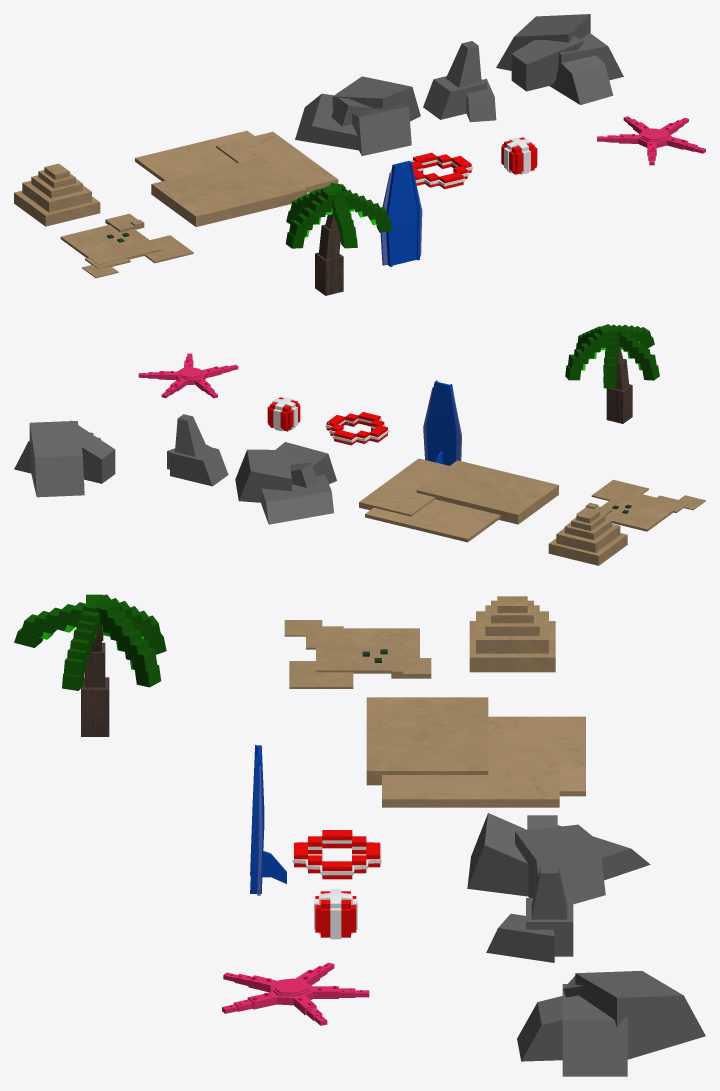
File: Beach_scene.fbx
3 views of the same model, one above another, from view 1: azimuth 30°, elevation 25°; view 2: azimuth 150°, elevation 25°; view 3: azimuth 270°, elevation 25° (orthographic). The views are drawn at different scales.
Parts seen in each view (by area): view 1: pCube72, pCube48, pCube50, pCube53, pCube49, pCube68, pCube52, pCube84, pCube67, pPlane9, pCube83, pCube1 (+3 smaller); view 2: pCube72, pCube50, pCube48, pCube53, pCube68, pCube49, pCube52, pCube67, pPlane9, pCube84, pCube87, pCube83 (+3 smaller); view 3: pCube72, pCube48, pCube50, pCube53, pCube68, pCube49, pCube67, pPlane9, pCube87, pCube84, pCube52, pCube1 (+3 smaller).
Part boxes in pixels (bbox=[...]): pCube72: bbox=[135, 130, 338, 226]; pCube48: bbox=[496, 14, 623, 104]; pCube50: bbox=[295, 76, 420, 155]; pCube53: bbox=[60, 213, 193, 278]; pCube49: bbox=[423, 41, 496, 122]; pCube68: bbox=[14, 163, 100, 226]; pCube52: bbox=[380, 160, 422, 266]; pCube84: bbox=[315, 212, 343, 295]; pCube67: bbox=[597, 116, 705, 165]; pPlane9: bbox=[411, 152, 472, 189]; pCube83: bbox=[285, 190, 338, 248]; pCube1: bbox=[501, 137, 537, 174]; pCube72: bbox=[359, 458, 558, 542]; pCube50: bbox=[235, 442, 336, 524]; pCube48: bbox=[14, 420, 115, 497]; pCube53: bbox=[576, 479, 705, 531]; pCube68: bbox=[548, 508, 627, 565]; pCube49: bbox=[167, 414, 228, 486]; pCube52: bbox=[423, 380, 461, 465]; pCube67: bbox=[138, 353, 238, 398]; pPlane9: bbox=[325, 412, 389, 445]; pCube84: bbox=[606, 349, 632, 423]; pCube87: bbox=[565, 327, 611, 380]; pCube83: bbox=[613, 327, 659, 380]; pCube72: bbox=[366, 697, 585, 807]; pCube48: bbox=[517, 971, 705, 1076]; pCube50: bbox=[467, 813, 650, 904]; pCube53: bbox=[284, 620, 431, 688]; pCube68: bbox=[469, 596, 555, 672]; pCube49: bbox=[486, 866, 573, 962]; pCube67: bbox=[222, 962, 369, 1025]; pPlane9: bbox=[292, 830, 381, 879]; pCube87: bbox=[94, 603, 161, 687]; pCube84: bbox=[81, 618, 109, 736]; pCube52: bbox=[250, 745, 286, 895]; pCube1: bbox=[314, 889, 357, 939].
Bounding box in the file's own units: 32.53 × 7.22 × 22.71.
